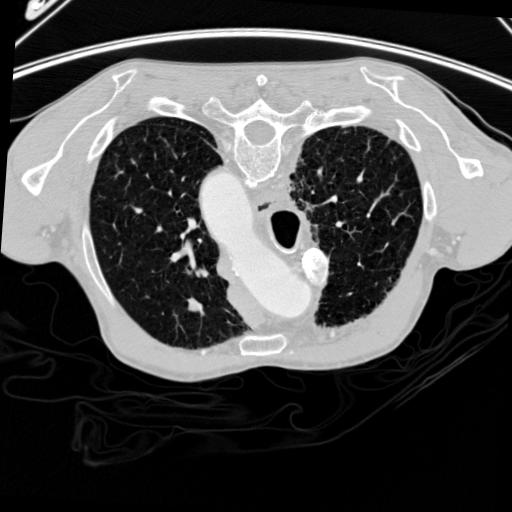nodule: (186, 298, 204, 316)
